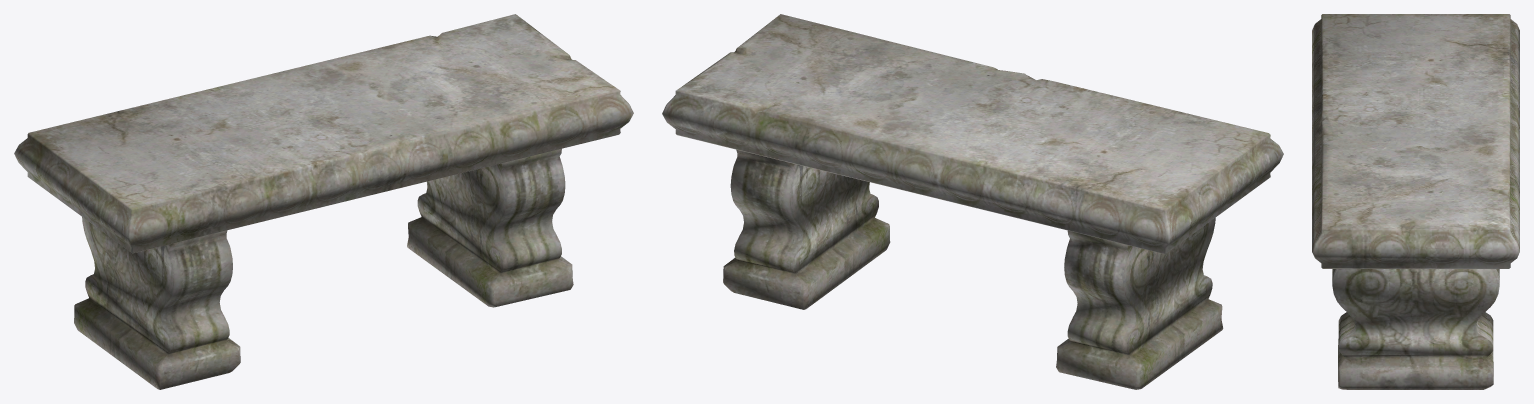
File: StoneBench.obj
3 renders of one model, left to right at view 1: azimuth 30°, elevation 25°; view 2: azimuth 150°, elevation 25°; view 3: azimuth 270°, elevation 25°, orthographic. The views are drawn at different scales.
Visible parts, largest first — view 1: StoneBench; view 2: StoneBench; view 3: StoneBench.
Boxes of the visible parts, bbox=[...] form: StoneBench: bbox=[14, 14, 633, 389]; StoneBench: bbox=[662, 14, 1283, 389]; StoneBench: bbox=[1312, 14, 1519, 389].
Bounding box in the file's own units: 85.81 × 31.96 × 33.84.
1 material, 1 textured.
